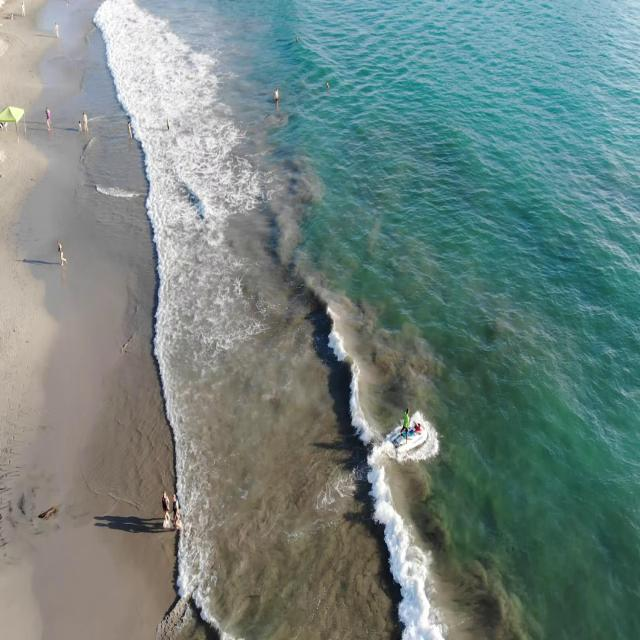boat: (390, 407, 430, 458)
